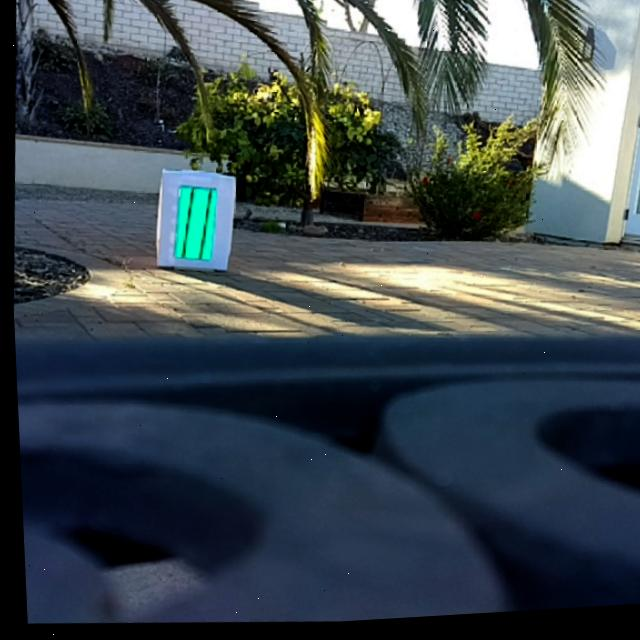led: (169, 183, 221, 268)
